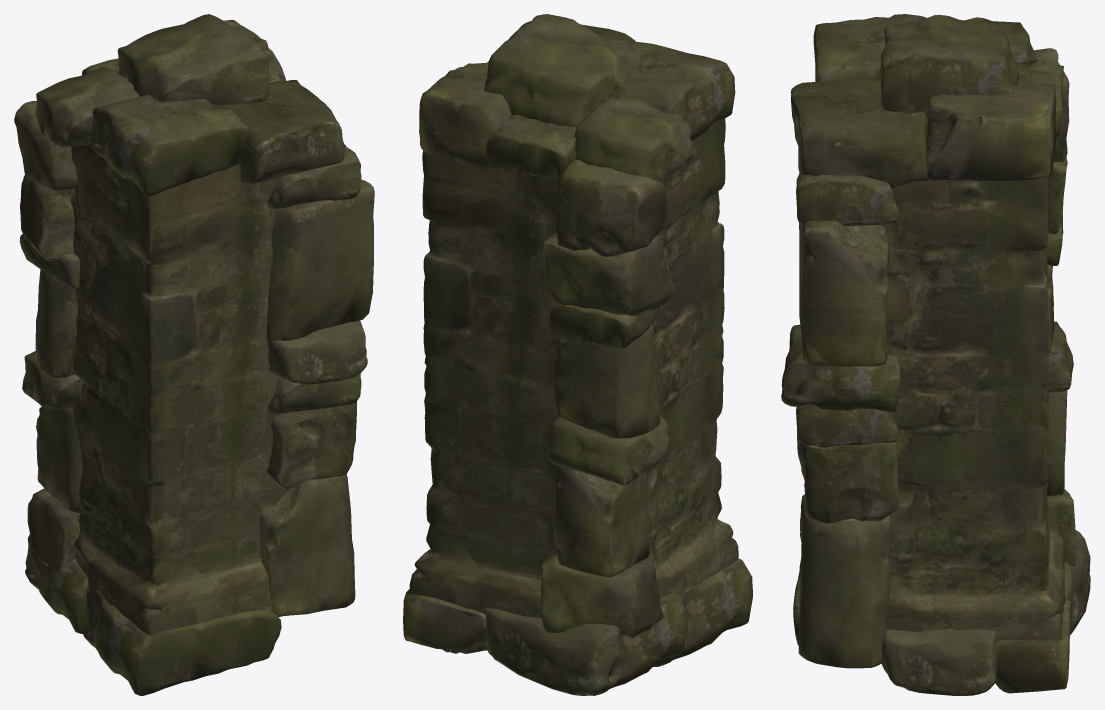
File: Ruins_BrokenPillar-transformed.glb
3 views of the same model, side by side, from view 1: azimuth 30°, elevation 25°; view 2: azimuth 150°, elevation 25°; view 3: azimuth 270°, elevation 25° (orthographic). The views are drawn at different scales.
Visible parts, largest first — view 1: Ruins_BrokenPillar; view 2: Ruins_BrokenPillar; view 3: Ruins_BrokenPillar.
Boxes of the visible parts, x1,y1,x2,y2 form: Ruins_BrokenPillar: [14, 14, 374, 695]; Ruins_BrokenPillar: [403, 14, 752, 695]; Ruins_BrokenPillar: [781, 14, 1090, 695].
Bounding box in the file's own units: 2.51 × 5.64 × 2.52.
Materials: 2 (2 with a texture image).
